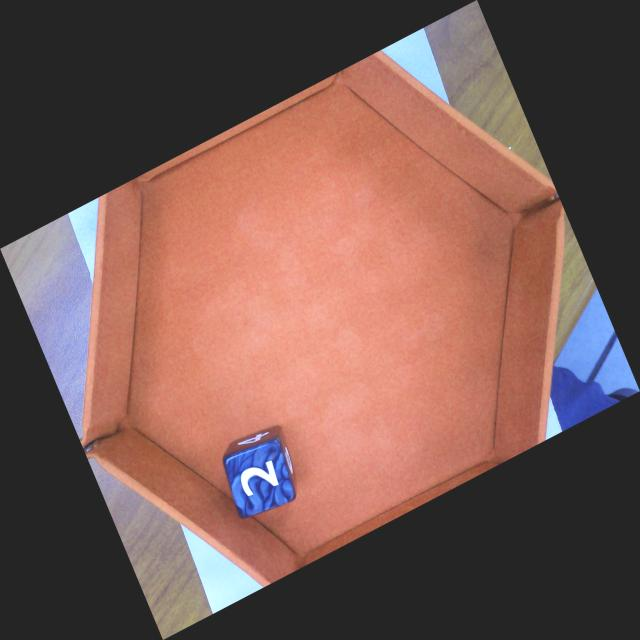dice: (223, 438, 296, 519)
